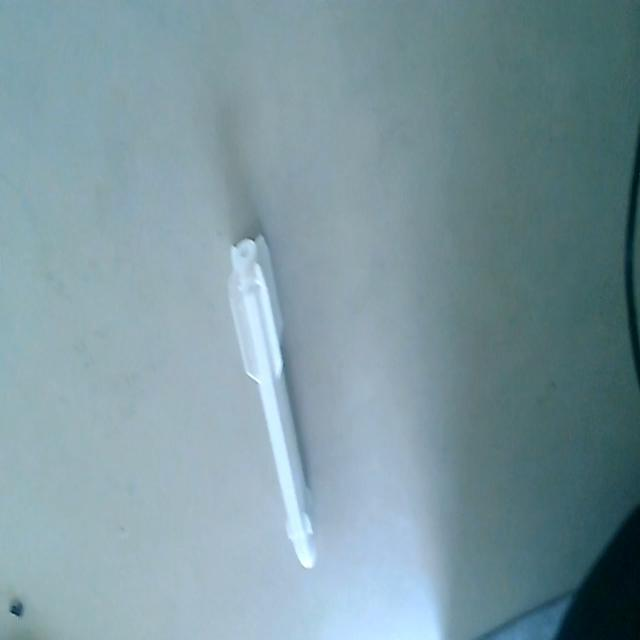Rocket: (229, 230, 319, 576)
